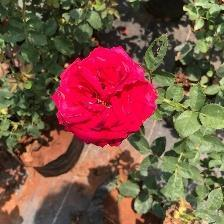rose: (52, 45, 160, 150)
